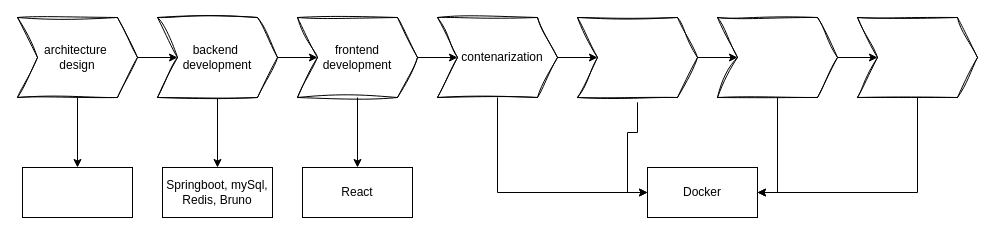
Some shapes in this 995 by 235 pixel diagram are drawn without their labels. Each missing label, with the centre of its shape:
"docker compose" belongs at [637,57].
"docker secrets" belongs at [917,57].
"docker swarm" belongs at [777,57].
"System-Flow, Architecture Diagram" belongs at [77,192].
